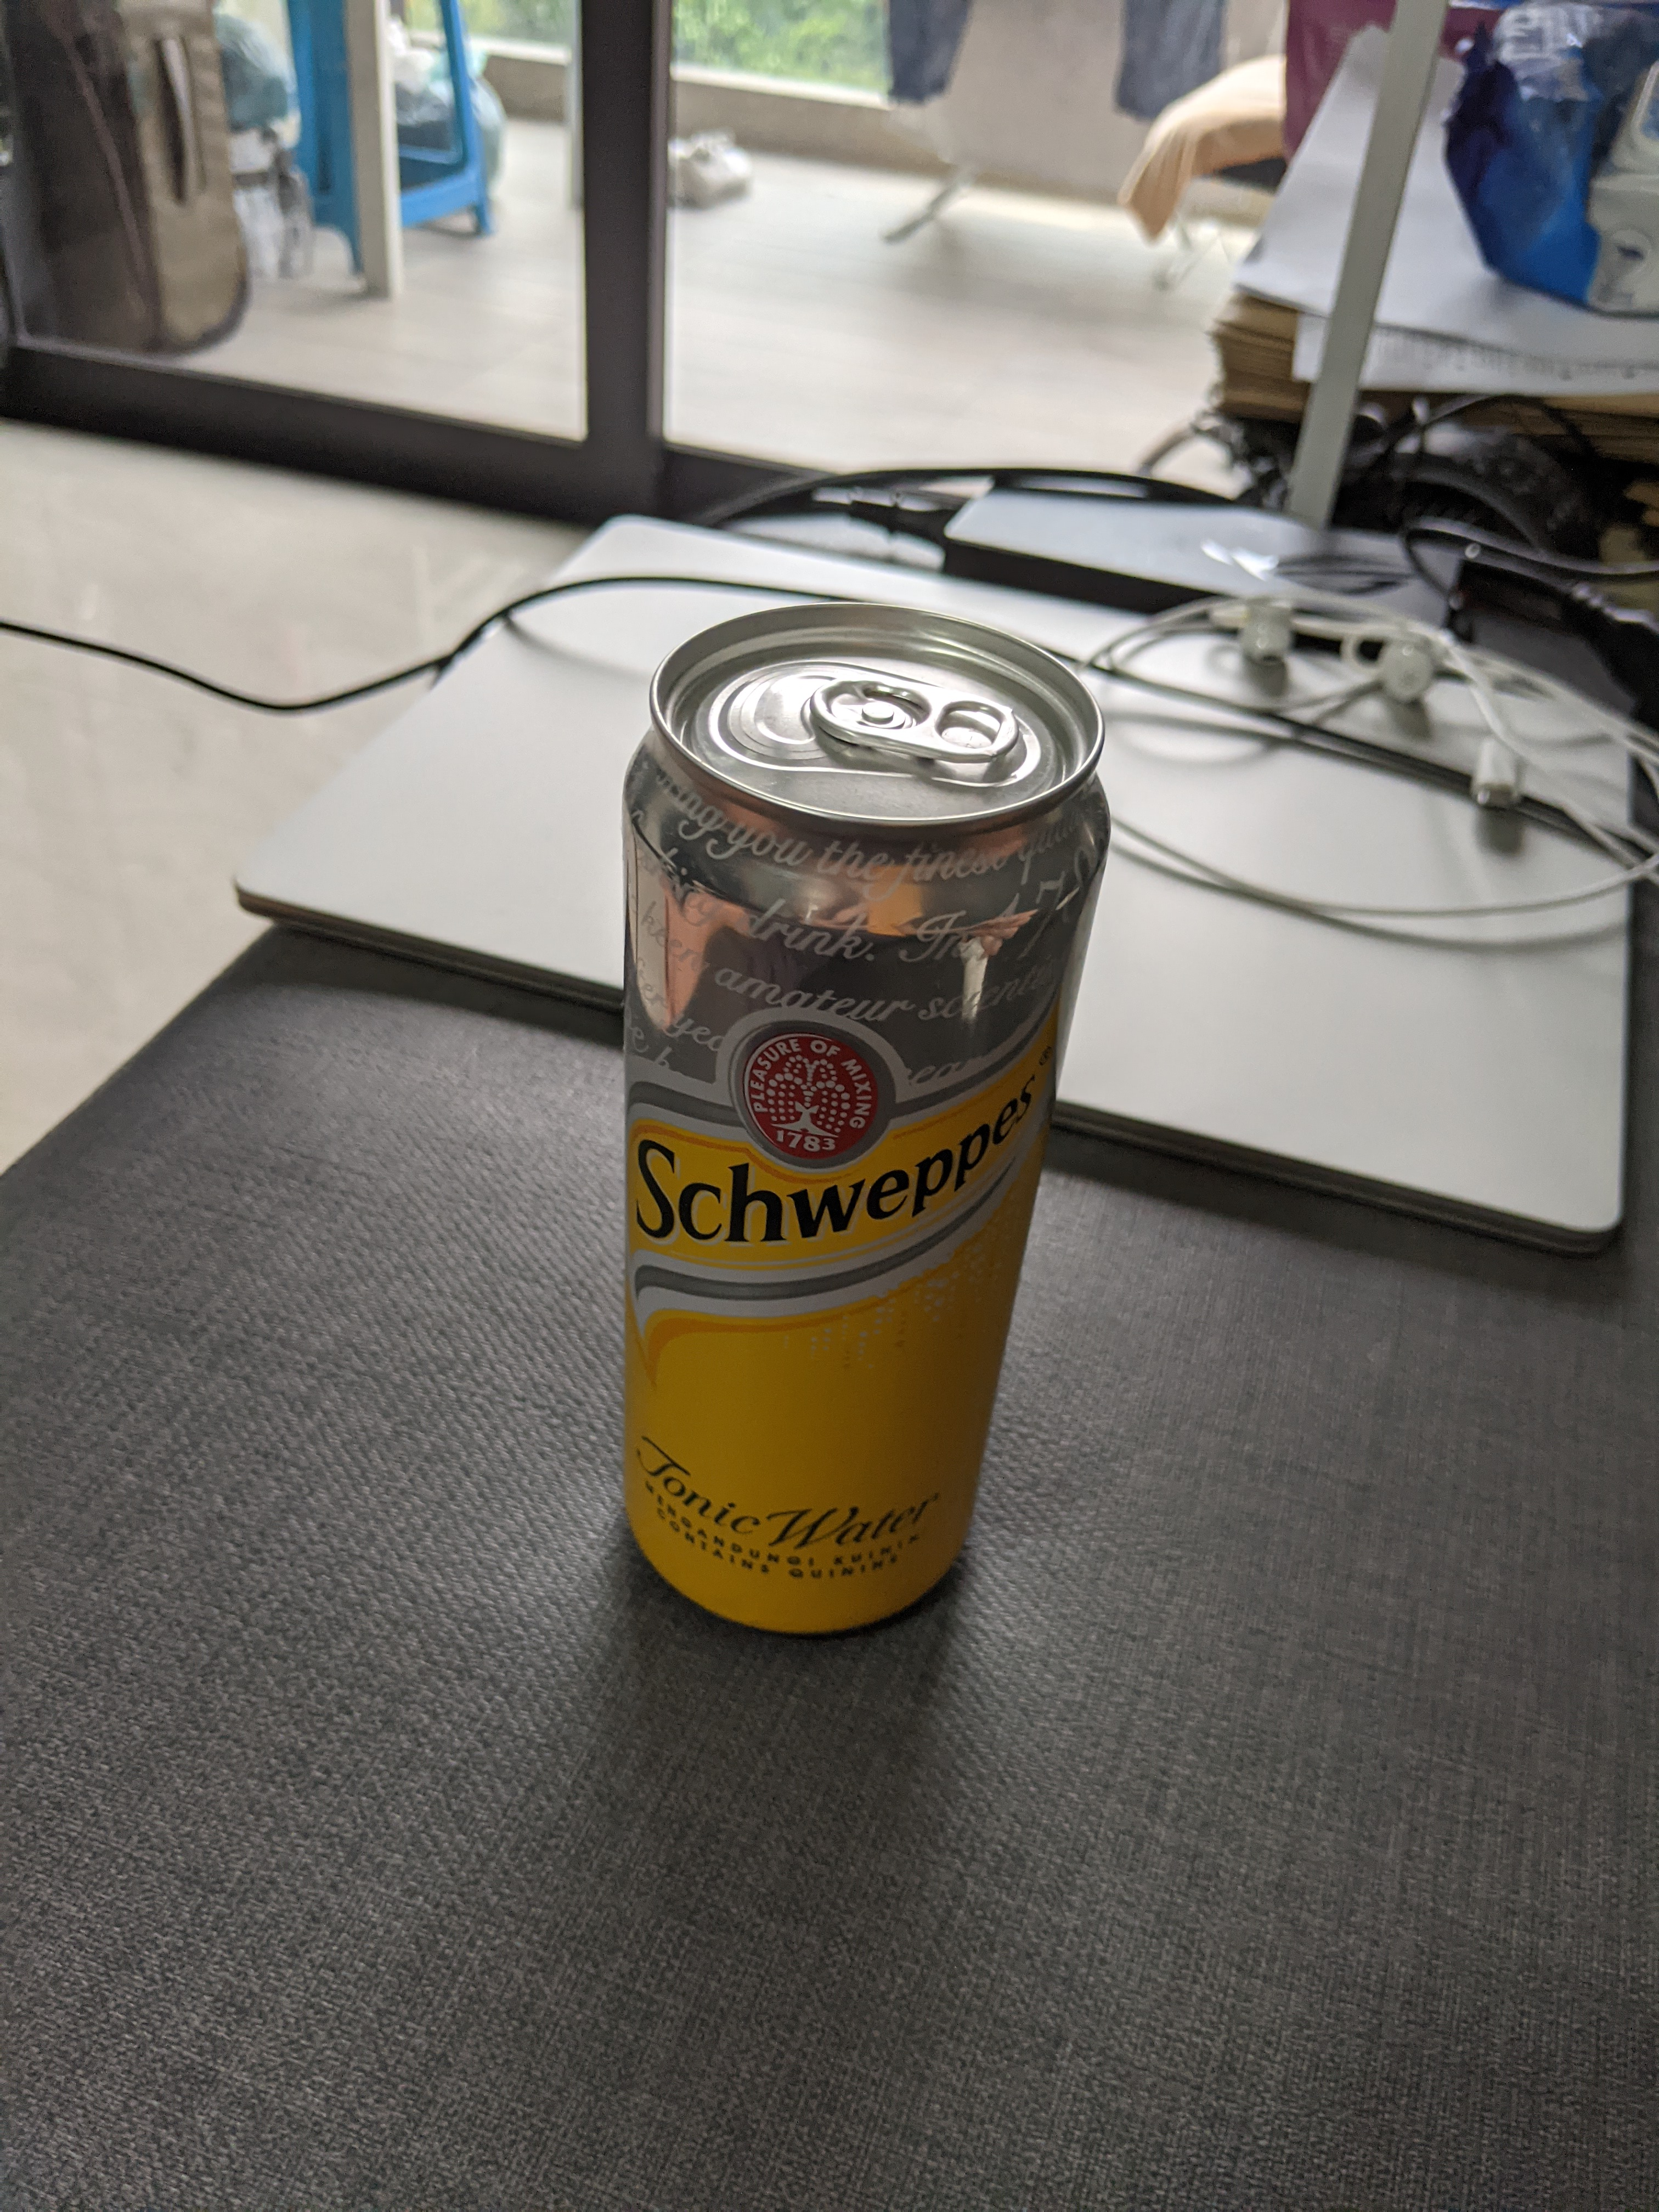schweppes drink can tonic water: (573, 577, 1140, 1689)
